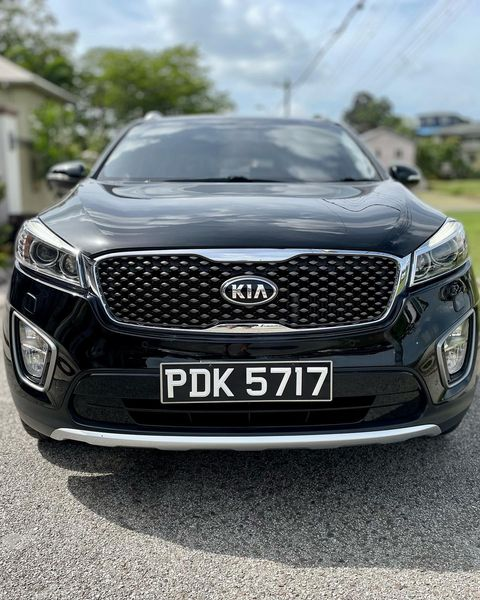License-Plate: (161, 365, 329, 400)
